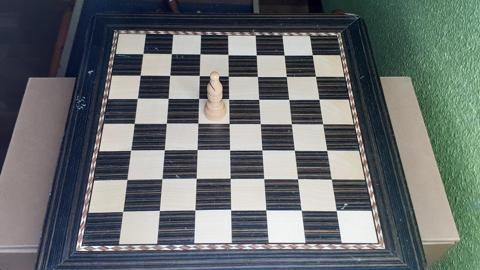xcorner: (156, 176, 165, 186), (153, 209, 163, 218), (195, 49, 205, 58), (193, 119, 202, 129), (225, 119, 234, 129), (225, 147, 235, 156), (262, 208, 272, 217), (138, 49, 147, 58), (135, 71, 144, 80), (132, 94, 141, 103), (129, 119, 138, 128), (125, 147, 134, 156), (121, 177, 130, 186), (117, 209, 126, 218), (167, 49, 176, 58), (165, 71, 174, 80), (163, 94, 172, 103), (161, 119, 170, 128), (159, 147, 168, 156), (195, 71, 204, 80), (194, 94, 203, 103), (192, 147, 201, 156), (191, 176, 200, 185), (190, 209, 199, 218), (224, 50, 233, 59), (224, 71, 233, 80), (225, 94, 234, 103), (226, 176, 235, 185), (226, 208, 235, 217), (252, 50, 261, 59), (254, 71, 263, 80), (255, 95, 264, 104), (257, 120, 266, 129), (259, 147, 268, 156), (260, 176, 269, 185), (281, 50, 290, 59), (283, 72, 292, 81), (286, 95, 295, 104), (288, 120, 297, 129), (291, 147, 300, 156), (295, 176, 304, 185), (298, 208, 307, 217), (309, 50, 318, 59), (312, 72, 321, 81), (316, 95, 325, 104), (320, 120, 329, 129), (324, 147, 333, 156), (329, 176, 338, 185), (334, 208, 343, 217)
